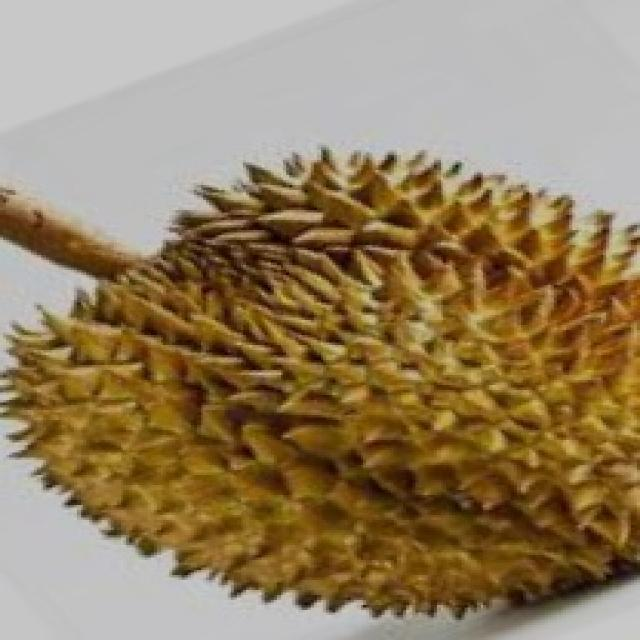fruit: (0, 218, 360, 638), (292, 267, 639, 640)
